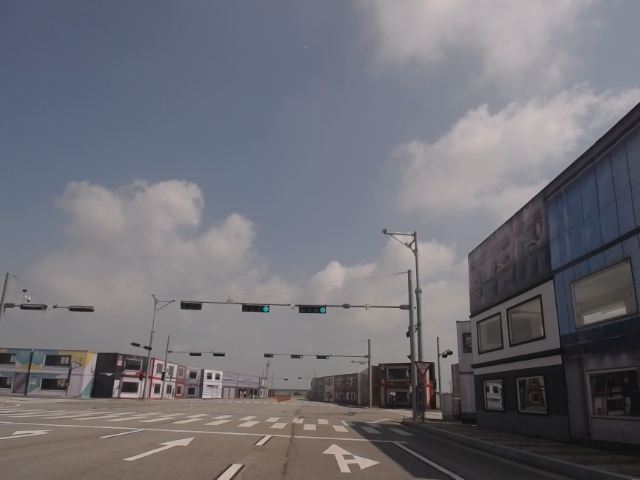straight_green_4: (299, 304, 327, 315), (243, 304, 271, 314)
